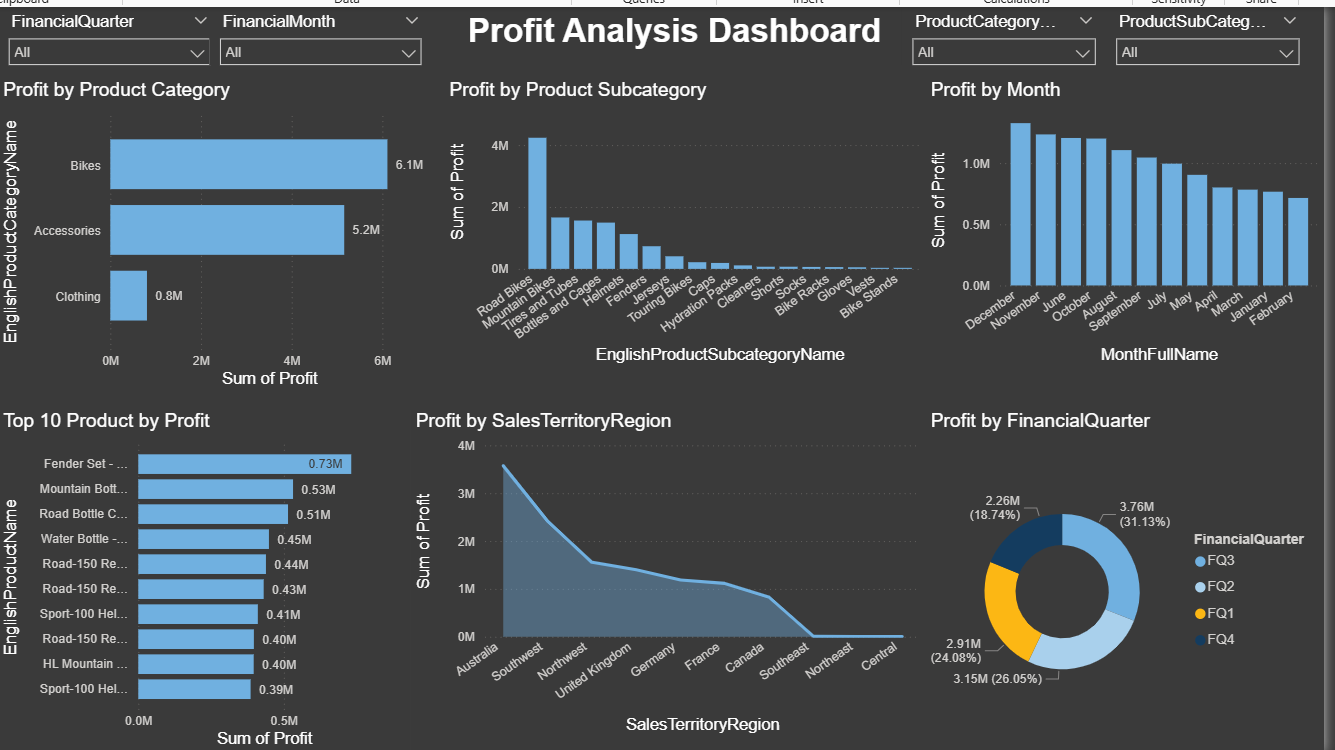

What the dashboard file says about the page in this screenshot:
{"tool":"powerbi","page":{"name":"Profit Analysis Dashboard","canvas":[1280,720],"ordinal":2},"visuals":[{"type":"textbox","box":[430.3,0,442.5,56.5],"z":0},{"type":"barChart","fields":{"Y":["Sum(Sales.Profit)"],"Category":["DimProdCategory.EnglishProductCategoryName"]},"box":[0,68.7,430.3,303.7],"z":1000},{"type":"columnChart","fields":{"Category":["DimProdSubCategory.EnglishProductSubcategoryName"],"Y":["Sum(Sales.Profit)"]},"box":[430.3,68.7,465.4,280.8],"z":2000},{"type":"donutChart","fields":{"Category":["Sales.FinancialQuarter"],"Y":["Sum(Sales.Profit)"]},"box":[10.7,372.3,463.9,347.9],"z":3000},{"type":"areaChart","fields":{"Category":["DimSalesTerritory.SalesTerritoryRegion"],"Y":["Sum(Sales.Profit)"]},"box":[442.5,372.3,529.5,312.8],"z":4000},{"type":"lineStackedColumnComboChart","fields":{"Category":["Sales.MonthFullName"],"Y":["Sum(Sales.Profit)"]},"box":[895.8,68.7,384.6,280.8],"z":5000},{"type":"tableEx","fields":{"Values":["Sales.ProductName","Sum(Sales.Profit)"]},"box":[895.8,349.5,384.6,335.7],"z":6000},{"type":"slicer","fields":{"Values":["Sales.FinancialQuarter"]},"box":[0,0,214.9,55.9],"z":7000},{"type":"slicer","fields":{"Values":["Sales.FinancialMonth"]},"box":[203.4,0,214.9,55.9],"z":8000},{"type":"slicer","fields":{"Values":["DimProdCategory.EnglishProductCategoryName"]},"box":[872.2,0,197.1,55.9],"z":9000},{"type":"slicer","fields":{"Values":["DimProdSubCategory.EnglishProductSubcategoryName"]},"box":[1069.2,0,197.1,55.9],"z":10000}]}

Visuals, with their boxes on the page's 1280x720 design canvas (x1, y1, x2, y2). These are canvas units, not pixel positions in the 1335x750 screenshot, which may show the page scaled, cropped or inside an application window:
textbox: x1=430, y1=0, x2=873, y2=56
barChart - Sum(Sales.Profit) x DimProdCategory.EnglishProductCategoryName: x1=0, y1=69, x2=430, y2=372
columnChart - DimProdSubCategory.EnglishProductSubcategoryName x Sum(Sales.Profit): x1=430, y1=69, x2=896, y2=350
donutChart - Sales.FinancialQuarter x Sum(Sales.Profit): x1=11, y1=372, x2=475, y2=720
areaChart - DimSalesTerritory.SalesTerritoryRegion x Sum(Sales.Profit): x1=442, y1=372, x2=972, y2=685
lineStackedColumnComboChart - Sales.MonthFullName x Sum(Sales.Profit): x1=896, y1=69, x2=1280, y2=350
tableEx - Sales.ProductName x Sum(Sales.Profit): x1=896, y1=350, x2=1280, y2=685
slicer - Sales.FinancialQuarter: x1=0, y1=0, x2=215, y2=56
slicer - Sales.FinancialMonth: x1=203, y1=0, x2=418, y2=56
slicer - DimProdCategory.EnglishProductCategoryName: x1=872, y1=0, x2=1069, y2=56
slicer - DimProdSubCategory.EnglishProductSubcategoryName: x1=1069, y1=0, x2=1266, y2=56
